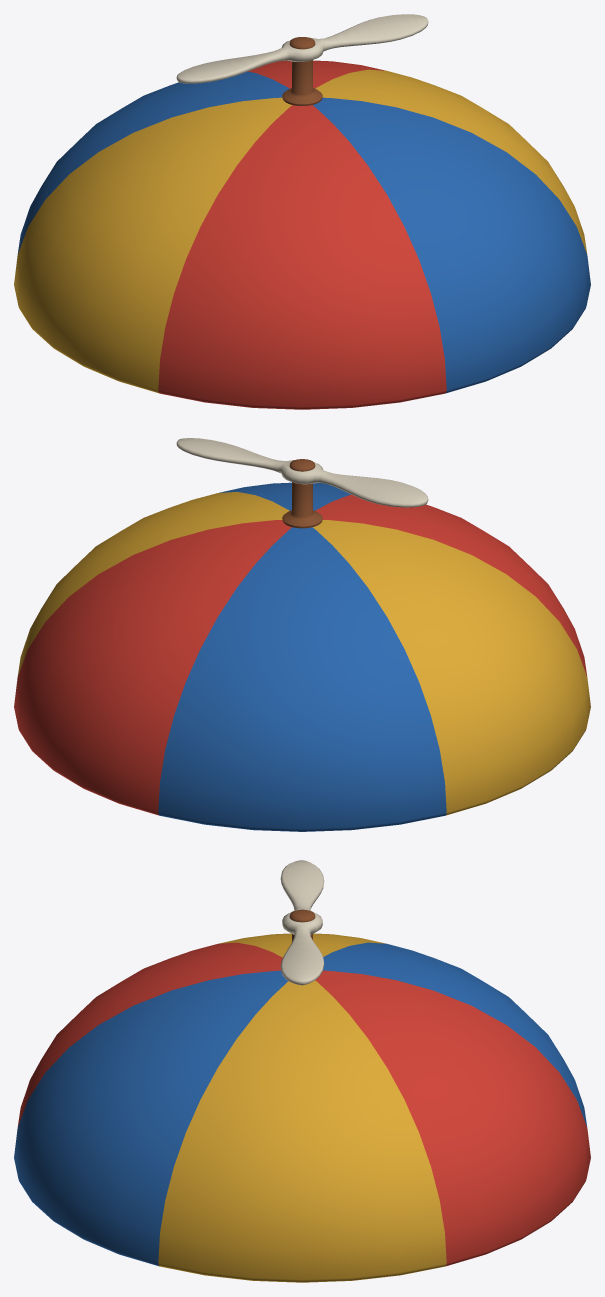
File: Cosmetic_Propeller_Beanie.glb
3 renders of one model, top to bottom at view 1: azimuth 30°, elevation 25°; view 2: azimuth 150°, elevation 25°; view 3: azimuth 270°, elevation 25°, orthographic.
Visible parts, largest first — view 1: Propeller_Beanie, Propeller; view 2: Propeller_Beanie, Propeller; view 3: Propeller_Beanie, Propeller.
Boxes of the visible parts, x1=… form: Propeller_Beanie: x1=14, y1=60, x2=590, y2=409; Propeller: x1=176, y1=14, x2=428, y2=83; Propeller_Beanie: x1=14, y1=482, x2=590, y2=831; Propeller: x1=176, y1=438, x2=428, y2=507; Propeller_Beanie: x1=14, y1=933, x2=590, y2=1282; Propeller: x1=280, y1=860, x2=324, y2=985.
Bounding box in the file's own units: 0.8845 × 0.4222 × 0.8845.
